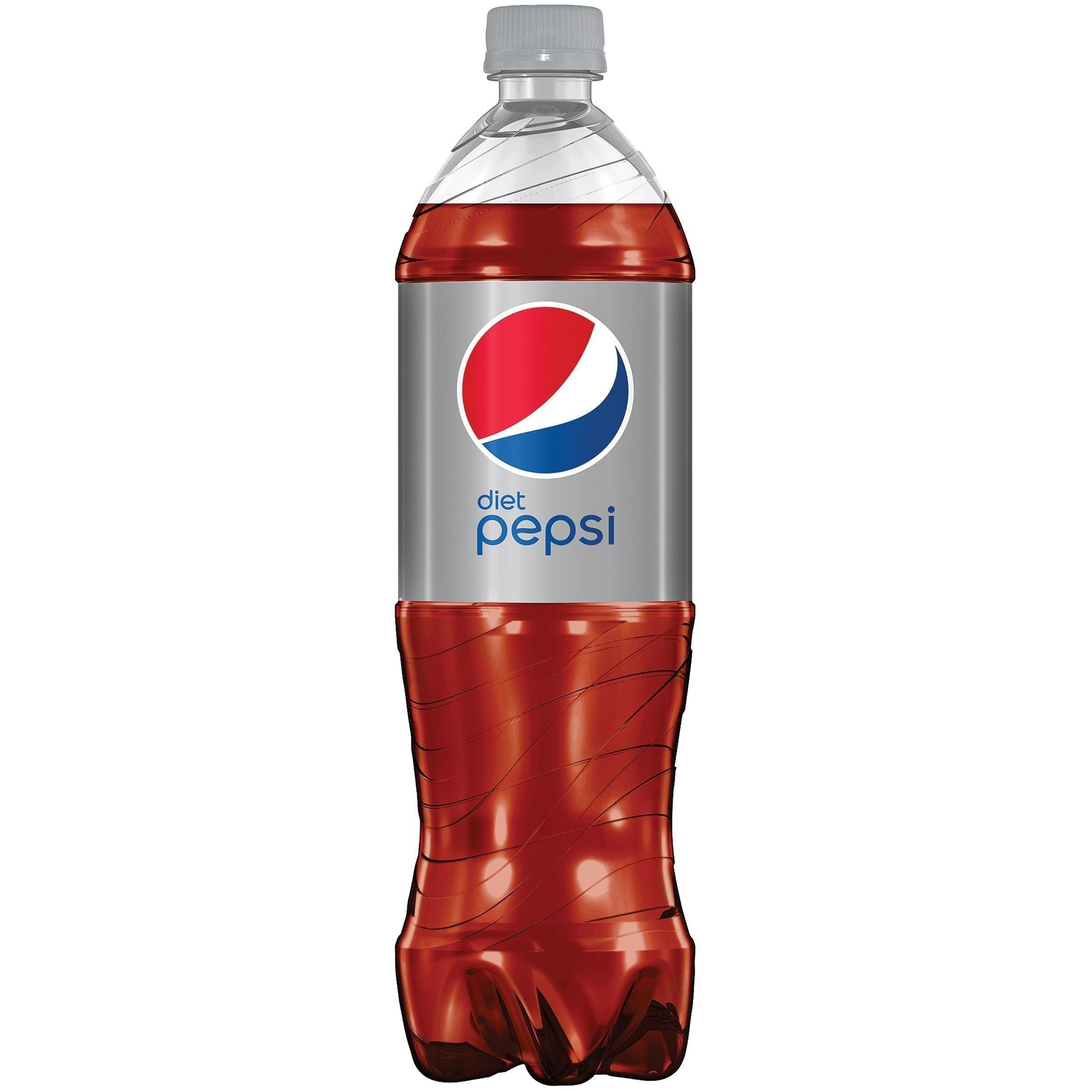bottle-plastic: (383, 1, 706, 1091)
